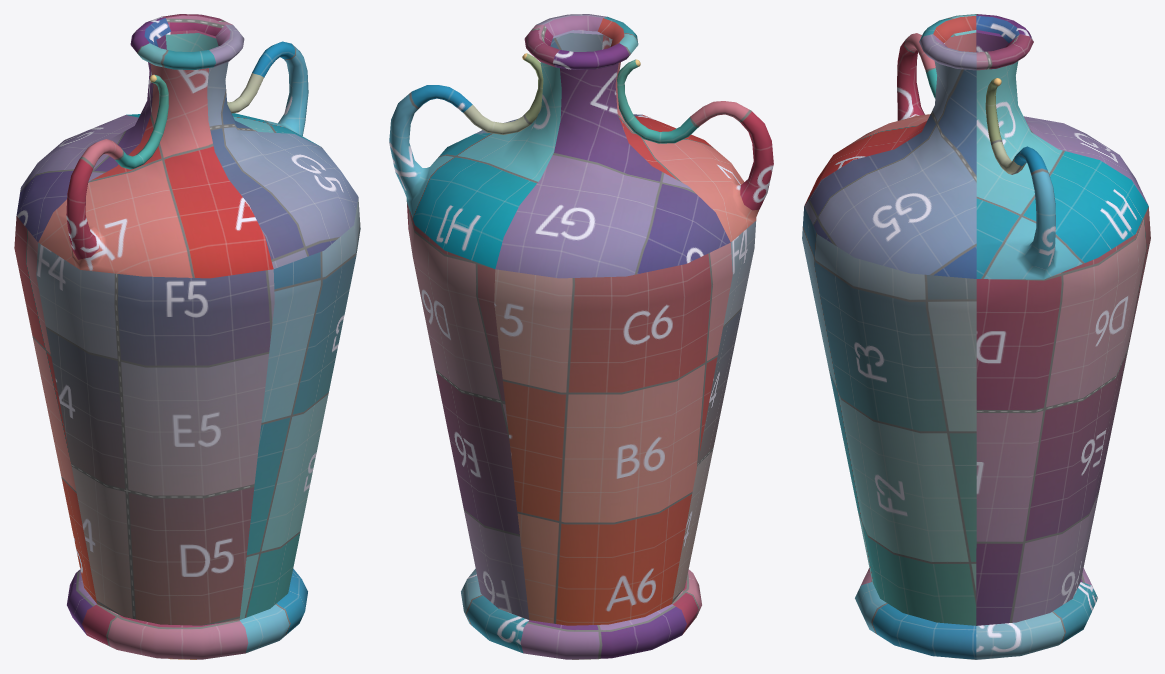
Rendered from MediumVase_LOW.fbx.
3 views of the same model, side by side, from view 1: azimuth 30°, elevation 25°; view 2: azimuth 150°, elevation 25°; view 3: azimuth 270°, elevation 25° (orthographic).
Visible parts, largest first — view 1: MediumVase_LOW.001; view 2: MediumVase_LOW.001; view 3: MediumVase_LOW.001.
Part boxes in pixels (x1,y1,x2,y2): MediumVase_LOW.001: [14, 14, 360, 659]; MediumVase_LOW.001: [389, 14, 773, 659]; MediumVase_LOW.001: [802, 14, 1150, 659].
Size of the model in its own units: 1.13 by 2.07 by 1.1.
Materials: 1 (1 with a texture image).
